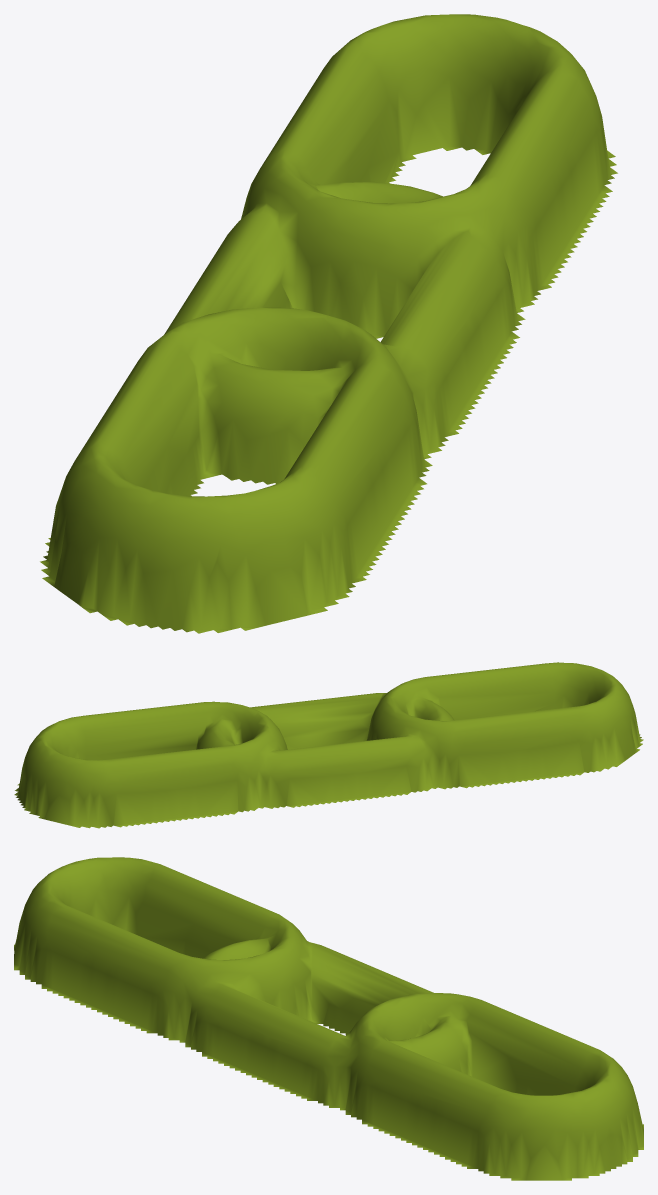
File: decoration-warlock.glb
The picture shows the model from 3 angles, top to bottom: view 1: azimuth 30°, elevation 25°; view 2: azimuth 150°, elevation 25°; view 3: azimuth 270°, elevation 25°; orthographic projection. The views are drawn at different scales.
Visible parts, largest first — view 1: decoration_warlock; view 2: decoration_warlock; view 3: decoration_warlock.
Part boxes in pixels (x1,y1,x2,y2): decoration_warlock: (40, 14, 617, 633); decoration_warlock: (14, 662, 643, 828); decoration_warlock: (14, 857, 643, 1180).
Bounding box in the file's own units: 0.2052 × 0.0255 × 0.2052.
